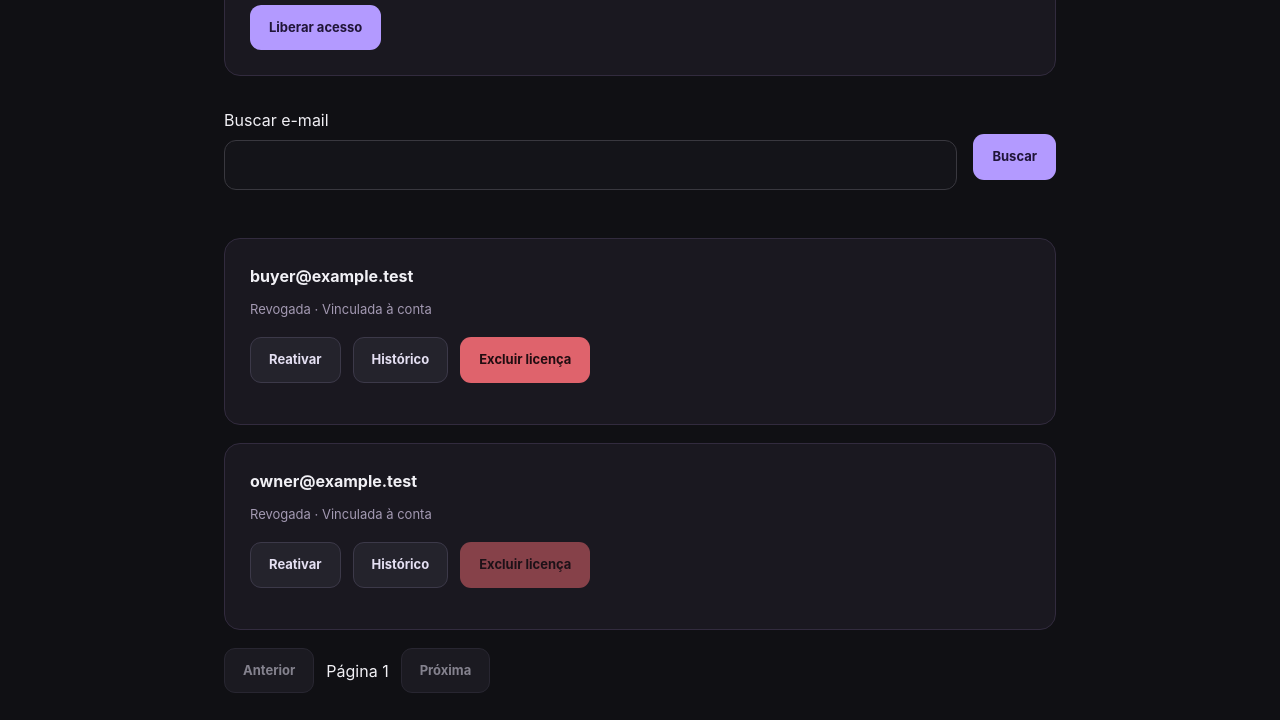
Test: requires the exact email, deletes only the selected license and refreshes the list
(page scrolled)
Click the button "Excluir licença" below "buyer@example.test" at (525,360), box x1=460 y1=337 x2=590 y2=383
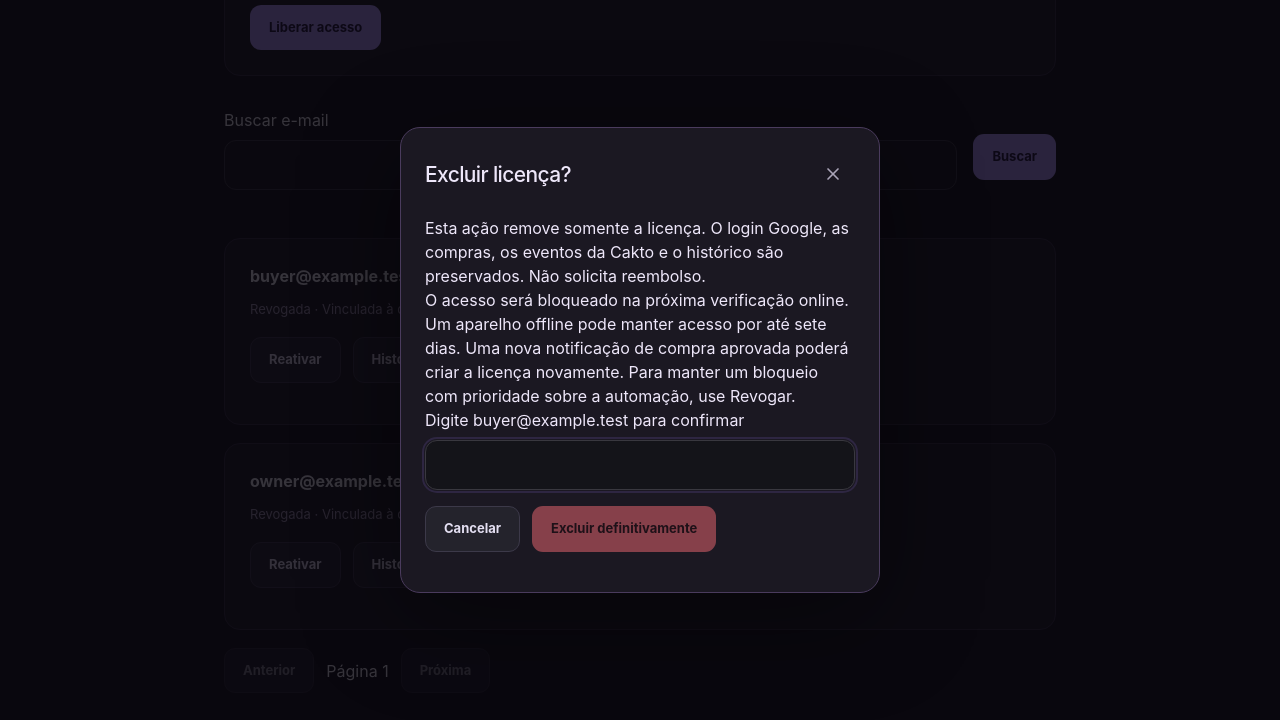
Now the button "Excluir definitivamente" is disabled, box x1=532 y1=506 x2=716 y2=552
Type "other@example.test" into the field at (640,465), box x1=425 y1=440 x2=855 y2=490
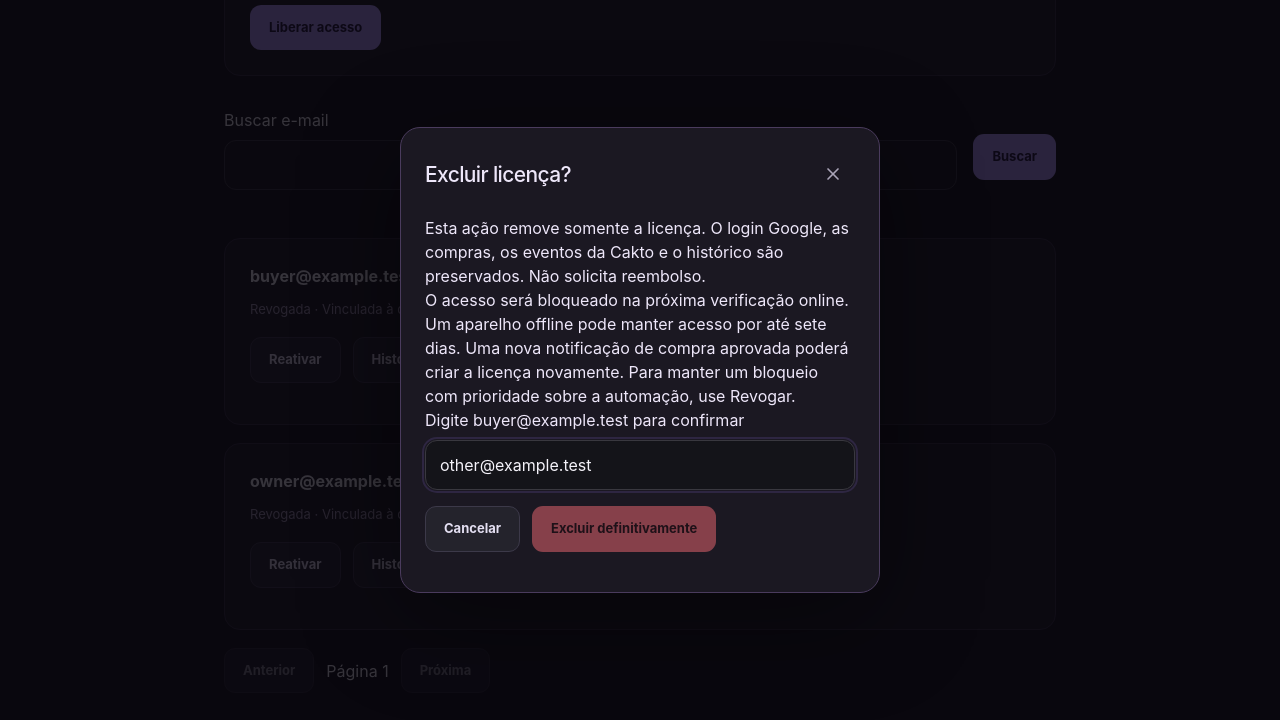
Now the button "Excluir definitivamente" is disabled, box x1=532 y1=506 x2=716 y2=552
Replace the text in the field with "buyer@example.test" at (640,465), box x1=425 y1=440 x2=855 y2=490
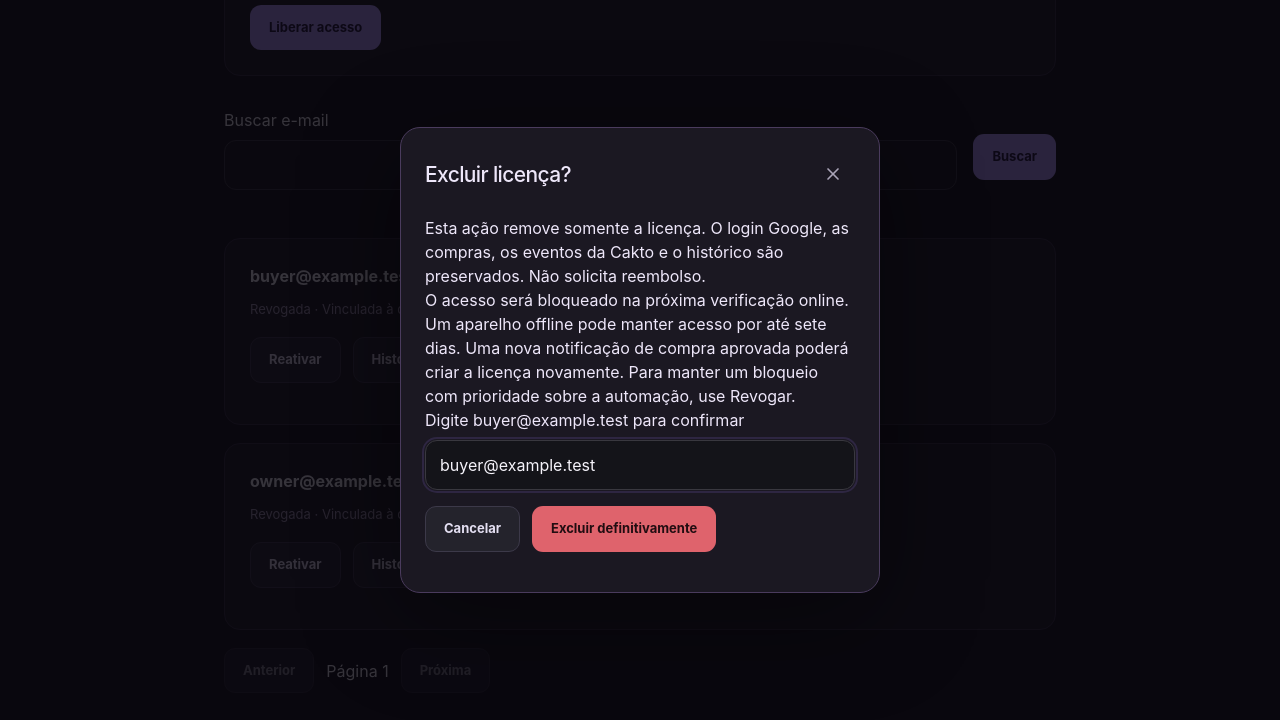
Click the button "Excluir definitivamente" at (624,529), box x1=532 y1=506 x2=716 y2=552
(page scrolled)
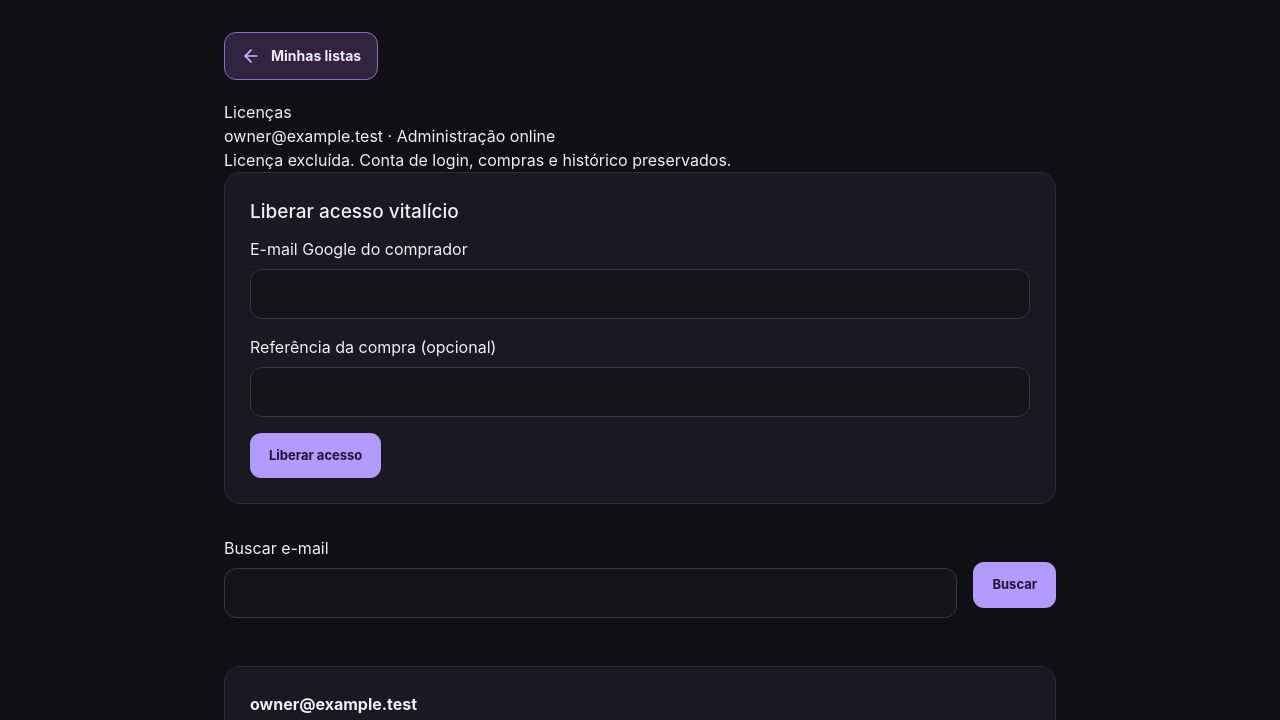
Now the dialog is gone
Now the text "buyer@example.test" is gone
Now the message shows "Conta de login, compras e histórico preservados", box x1=224 y1=150 x2=731 y2=170
